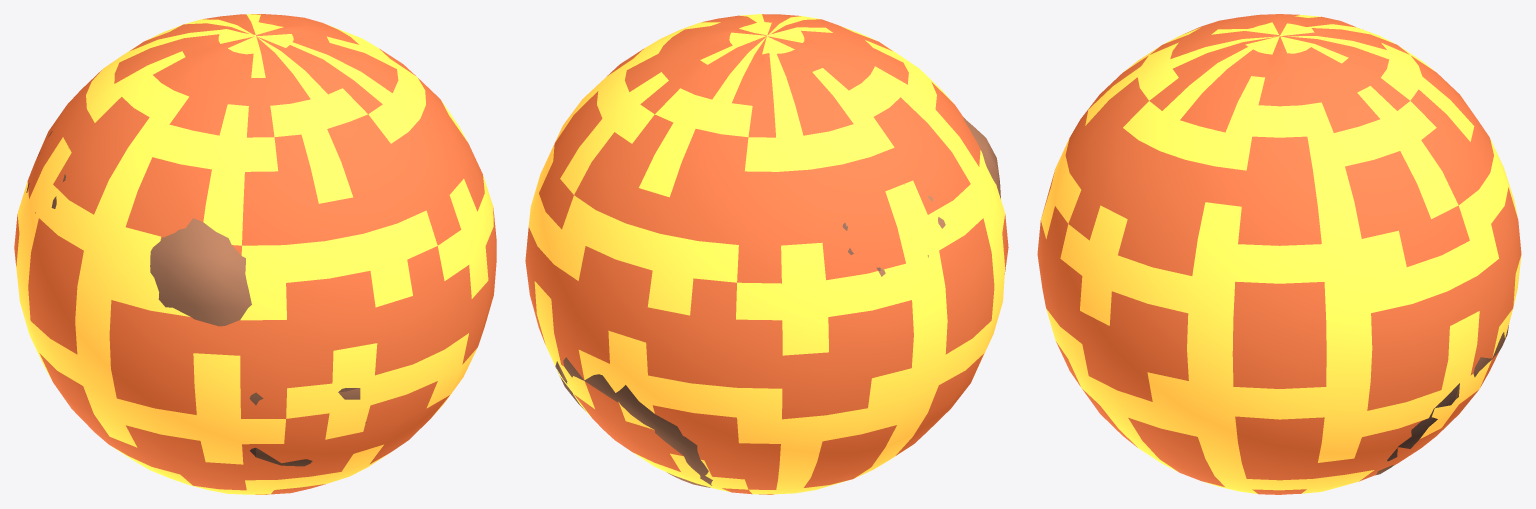
Rendered from planet-mars.glb.
3 renders of one model, left to right at view 1: azimuth 30°, elevation 25°; view 2: azimuth 150°, elevation 25°; view 3: azimuth 270°, elevation 25°, orthographic.
Parts seen in each view (by area): view 1: Magma_Crust, Mars_Globe; view 2: Magma_Crust, Mars_Globe; view 3: Magma_Crust, Mars_Globe.
Boxes of the visible parts, left/top/right/bottom form: Magma_Crust: left=14, top=14, right=496, bottom=494; Mars_Globe: left=26, top=131, right=366, bottom=466; Magma_Crust: left=525, top=14, right=1008, bottom=494; Mars_Globe: left=555, top=117, right=1000, bottom=487; Magma_Crust: left=1037, top=14, right=1521, bottom=494; Mars_Globe: left=1375, top=325, right=1508, bottom=475.
Bounding box in the file's own units: 2.02 × 2.03 × 2.03.
